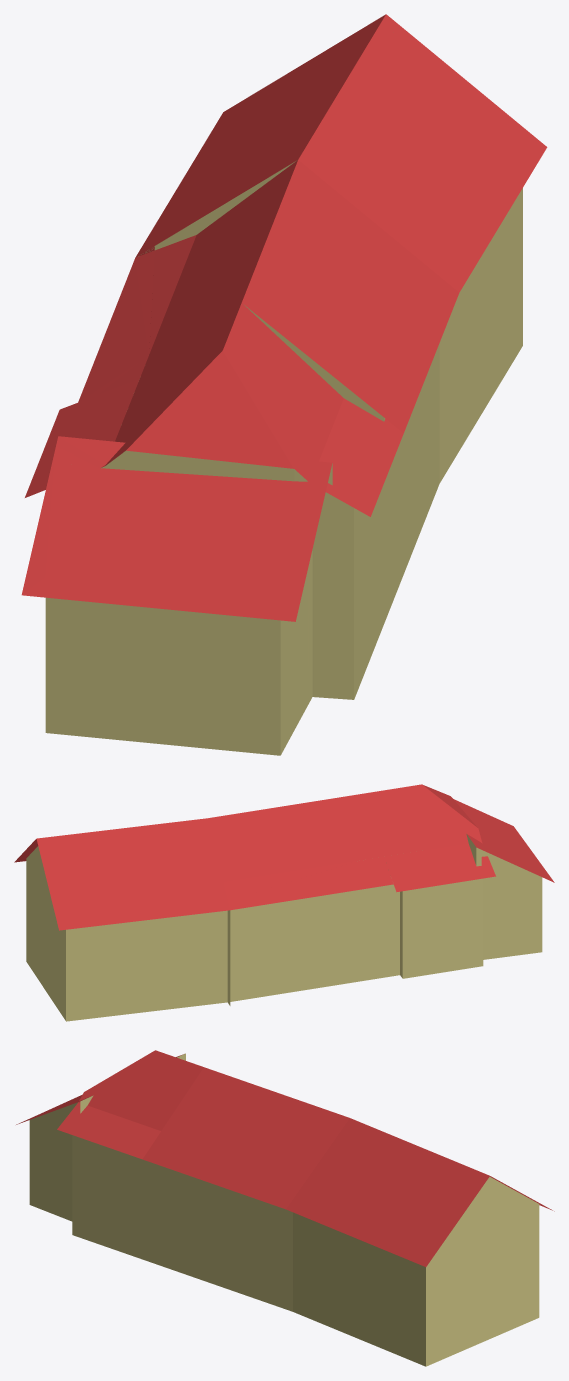
The picture shows the model from 3 angles, top to bottom: view 1: azimuth 30°, elevation 25°; view 2: azimuth 150°, elevation 25°; view 3: azimuth 270°, elevation 25°; orthographic projection. The views are drawn at different scales.
Bounding box in the file's own units: 34.6 × 36.59 × 12.67.
